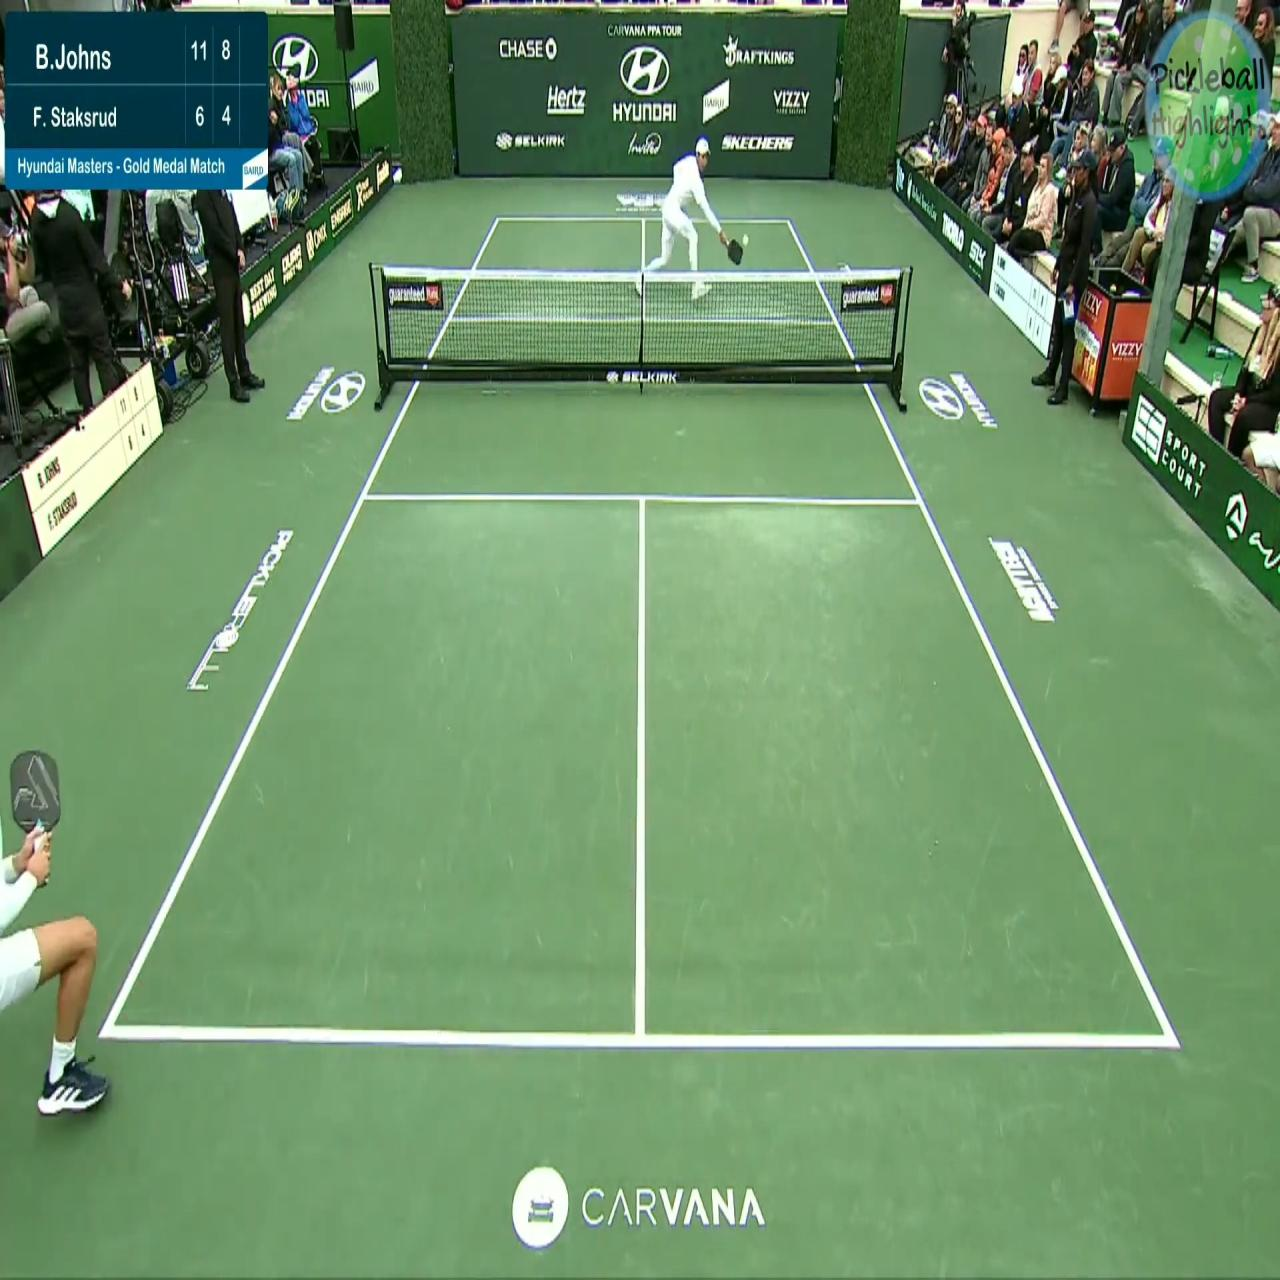pickleball: (741, 232, 750, 247)
